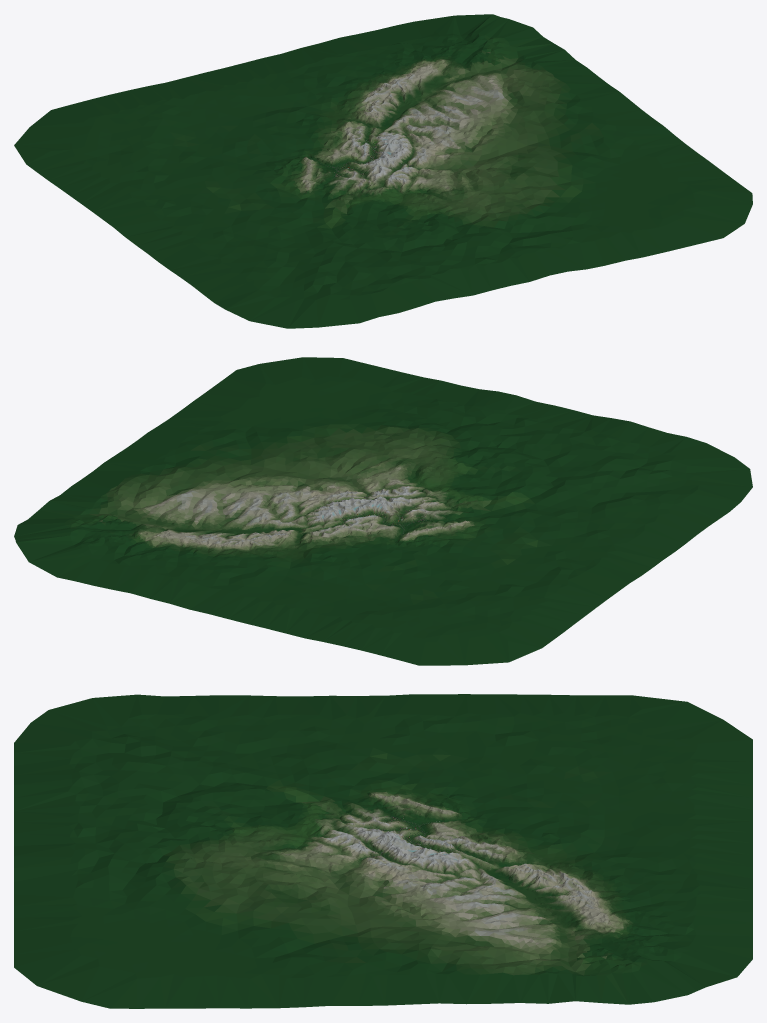
The model's file is scene_full_193.glb.
3 renders of one model, top to bottom at view 1: azimuth 30°, elevation 25°; view 2: azimuth 150°, elevation 25°; view 3: azimuth 270°, elevation 25°, orthographic. The views are drawn at different scales.
Parts seen in each view (by area): view 1: map; view 2: map; view 3: map.
Boxes of the visible parts, x1=… form: map: x1=14, y1=14, x2=752, y2=328; map: x1=14, y1=357, x2=752, y2=665; map: x1=14, y1=694, x2=752, y2=1008.
Bounding box in the file's own units: 630 × 19.9 × 630.
